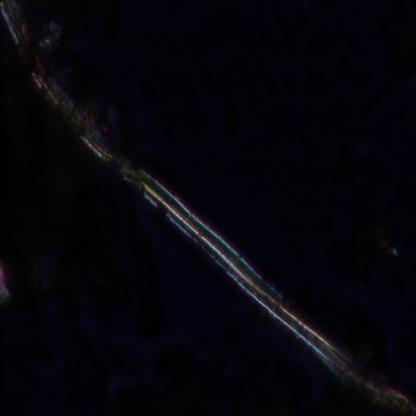Microfibre: (0, 3, 413, 411)
